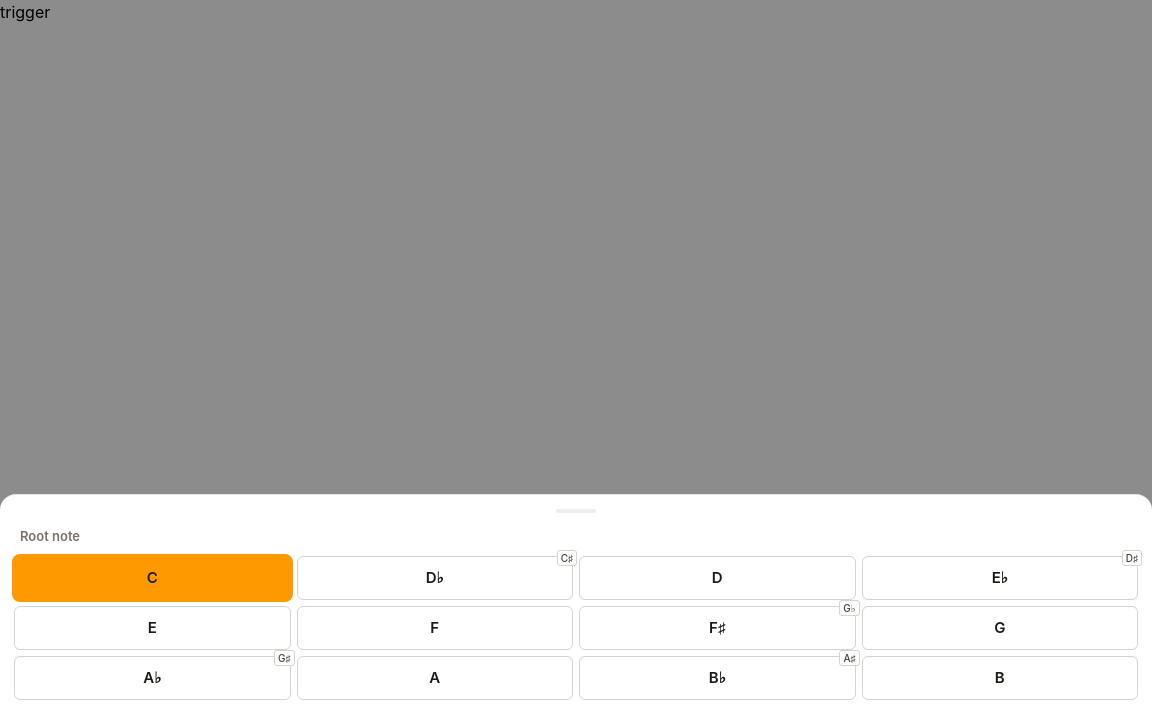
Test: RootSheet — enharmonic badge › badge label updates after flip
This screenshot has width=1152, height=720.
What coordinates should you click on to do the following:
click the button named "Show C♯ spelling"
I would click on:
 (567, 558)
Its box is left=557, top=550, right=577, bottom=566.
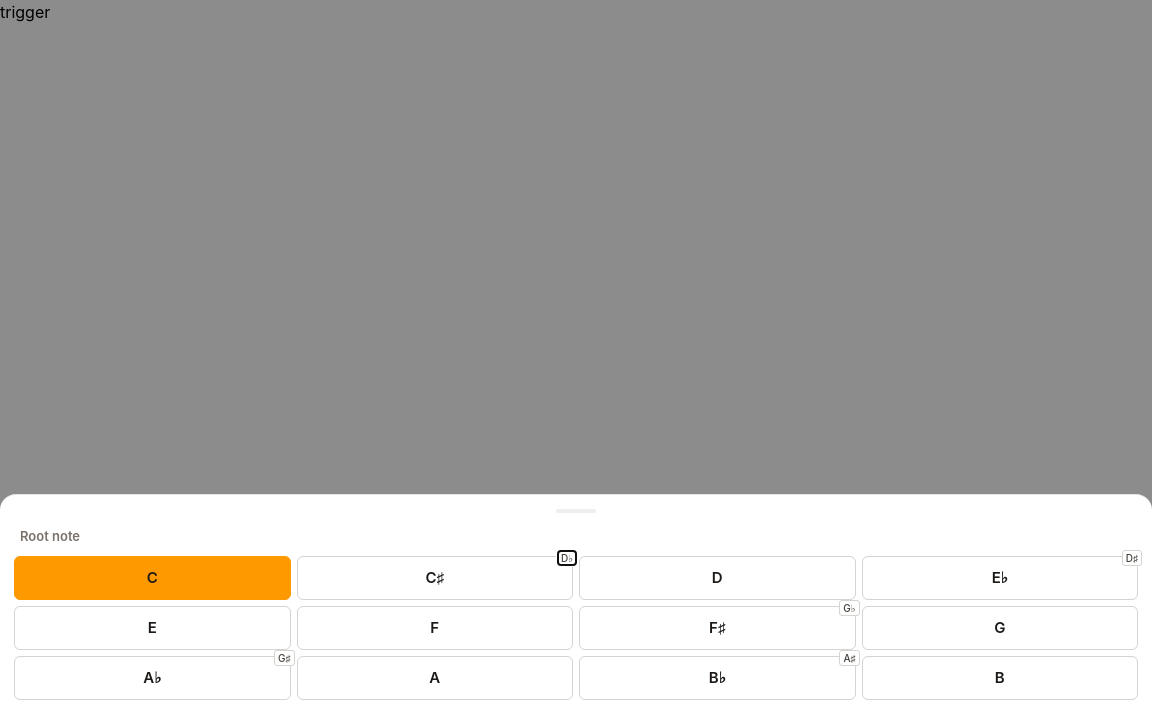
Now the button named "Show D♭ spelling" is shown, box left=557, top=550, right=577, bottom=566
